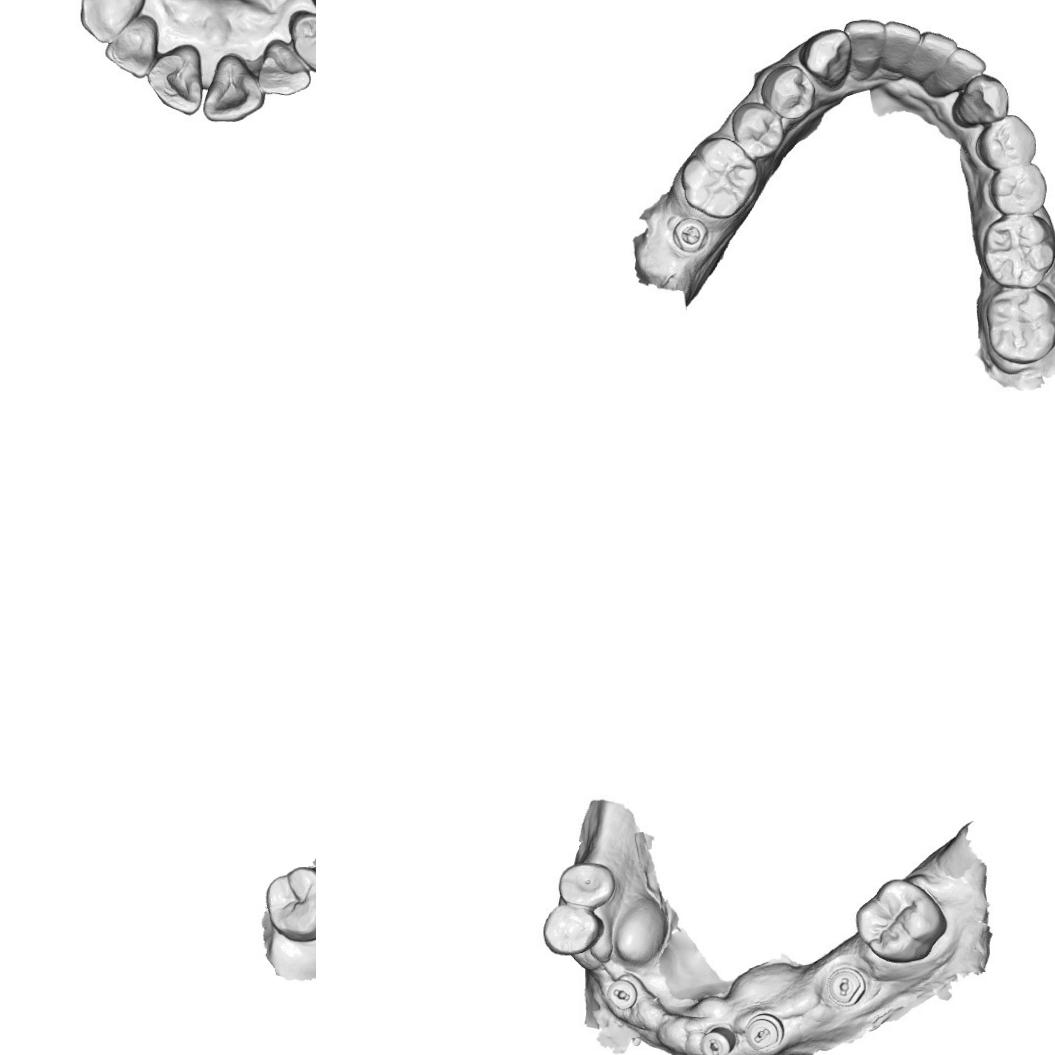canine: (800, 26, 855, 90), (952, 70, 1012, 128), (74, 0, 153, 43), (287, 9, 316, 74)
implant: (664, 212, 713, 257)
implant_minus: (824, 964, 868, 1010), (744, 1010, 785, 1052), (604, 975, 640, 1012), (698, 1023, 737, 1055)
incisor: (200, 55, 263, 125), (148, 45, 202, 117), (252, 34, 310, 101), (102, 15, 160, 80), (924, 51, 978, 98), (918, 29, 952, 94), (846, 20, 884, 78), (882, 22, 918, 78)
molar: (852, 876, 948, 965), (678, 134, 759, 218), (979, 212, 1055, 288), (983, 288, 1055, 365), (264, 864, 316, 943)
premolar: (974, 112, 1037, 172), (540, 900, 605, 957), (729, 98, 786, 160), (759, 62, 817, 120), (988, 161, 1050, 214), (556, 860, 616, 909)
